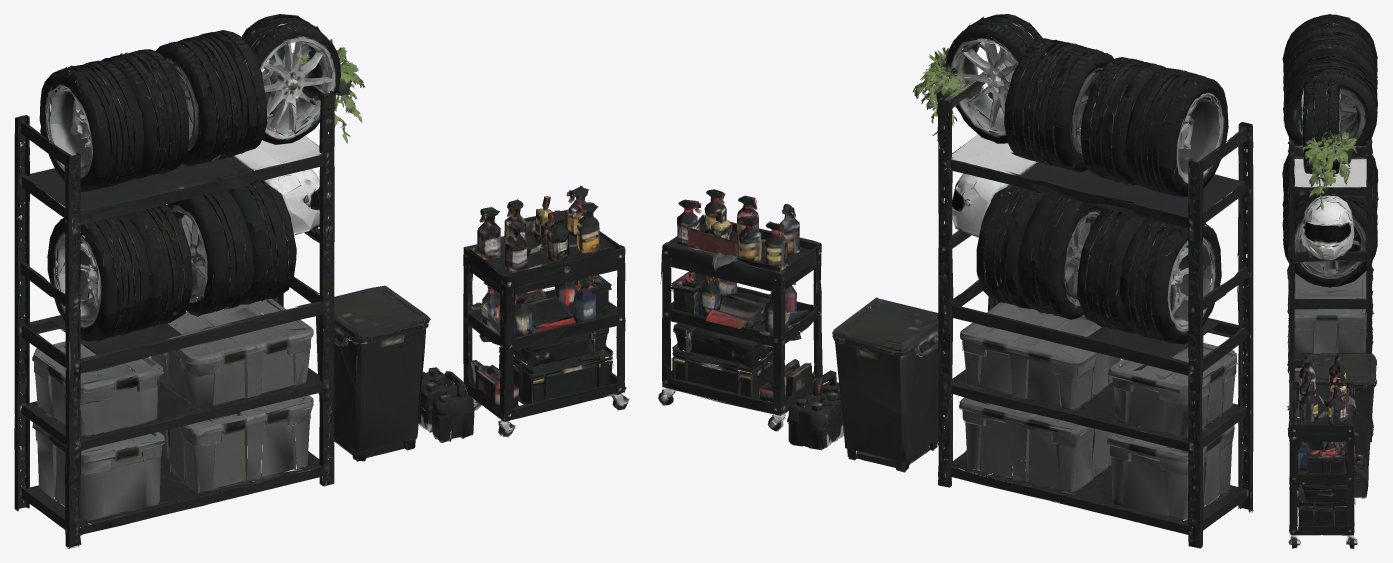
File: tire-shelf.glb
3 renders of one model, left to right at view 1: azimuth 30°, elevation 25°; view 2: azimuth 150°, elevation 25°; view 3: azimuth 270°, elevation 25°, orthographic. The views are drawn at different scales.
Parts seen in each view (by area): view 1: output_unwrapped; view 2: output_unwrapped; view 3: output_unwrapped.
Part boxes in pixels (x1,y1,x2,y2): output_unwrapped: (14, 14, 629, 548); output_unwrapped: (658, 14, 1253, 548); output_unwrapped: (1282, 14, 1378, 548).
Size of the model in its own units: 1.91 by 1.48 by 0.3713.
1 material, 1 textured.
